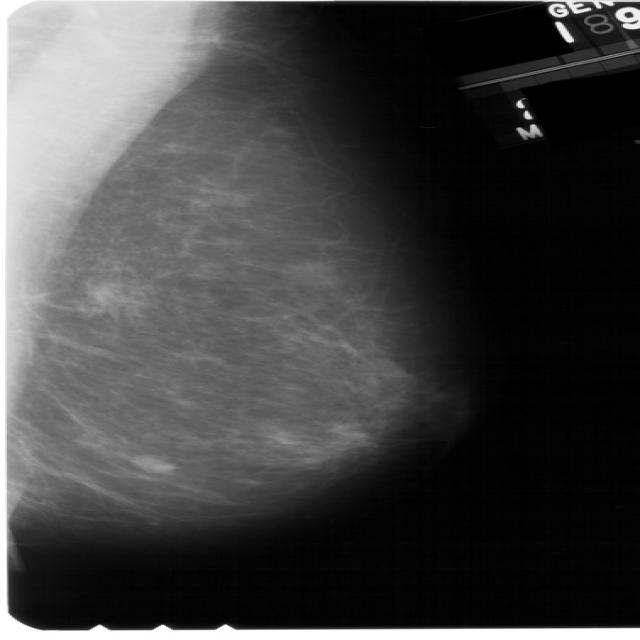tumour: (127, 453, 174, 473)
